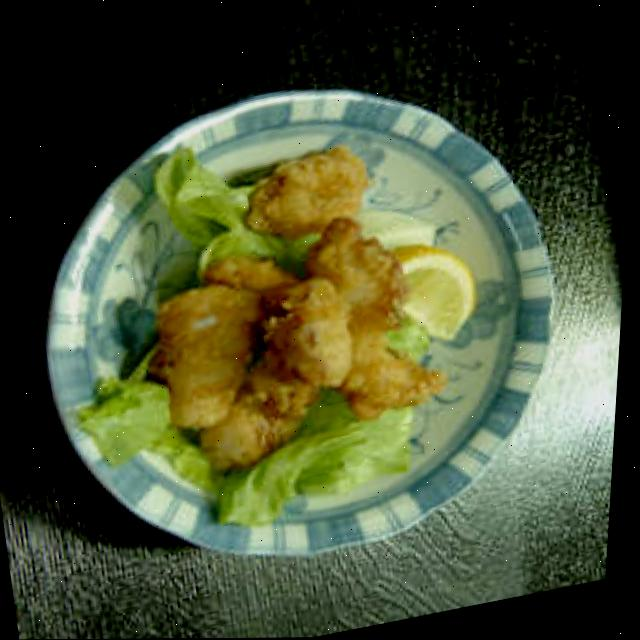鸡肉料理 含炸鸡: (52, 55, 518, 518)
